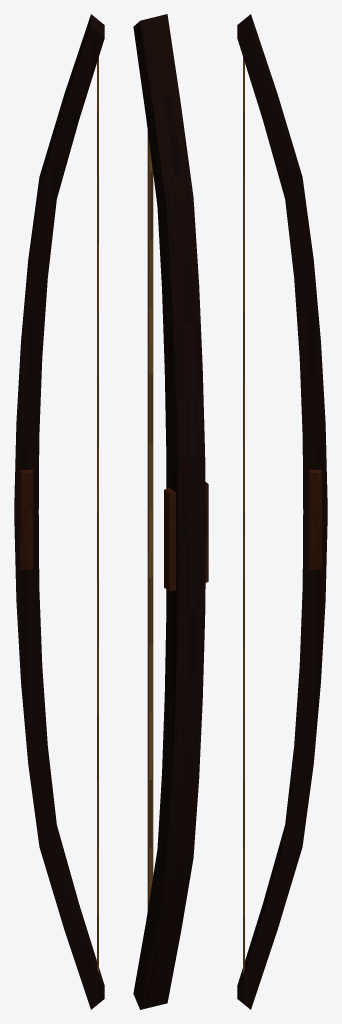
File: arco_compuesto.glb
3 renders of one model, left to right at view 1: azimuth 90°, elevation 25°; view 2: azimuth 210°, elevation 25°; view 3: azimuth 270°, elevation 25°, orthographic.
Parts seen in each view (by area): view 1: palas, cuerda, empunadura; view 2: palas, cuerda, empunadura; view 3: palas, cuerda, empunadura.
Part boxes in pixels (x1,y1,x2,y2): palas: [14, 14, 104, 1009]; cuerda: [97, 57, 98, 974]; empunadura: [20, 470, 33, 569]; palas: [133, 14, 205, 1009]; cuerda: [147, 131, 153, 910]; empunadura: [164, 482, 208, 591]; palas: [237, 14, 327, 1009]; cuerda: [243, 57, 244, 974]; empunadura: [308, 470, 321, 569].
Size of the model in its own units: 0.05 by 1.2 by 0.1.
1 material, 1 textured.
